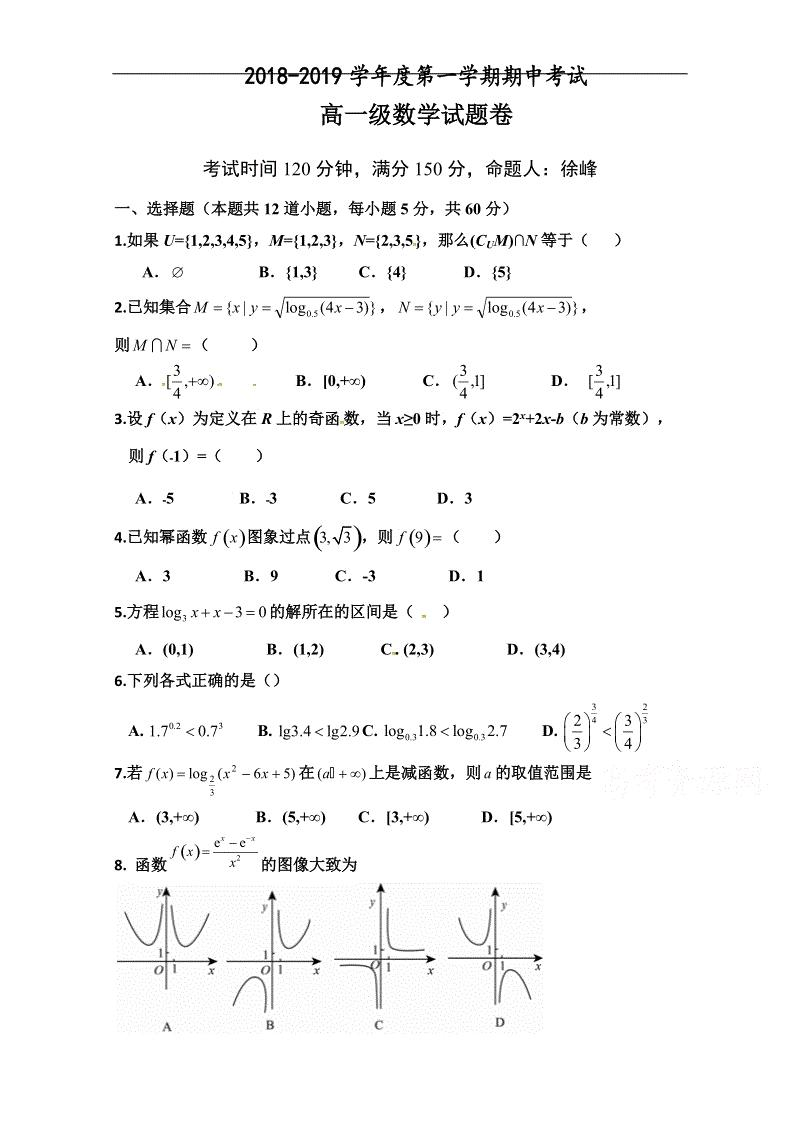Math: (112, 837, 571, 1043), (112, 296, 632, 402), (118, 413, 653, 510), (118, 699, 655, 758), (118, 766, 600, 825), (114, 229, 626, 281), (112, 524, 520, 588), (111, 607, 581, 657), (395, 101, 518, 124)
